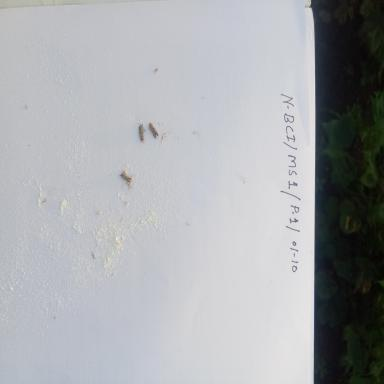pbw: (114, 160, 135, 189), (134, 120, 147, 144), (147, 120, 160, 143)
